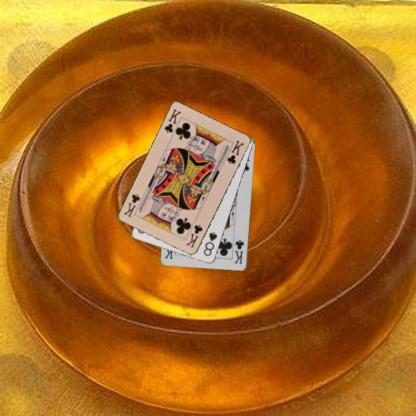8s: (201, 229, 218, 258)
Kc: (161, 106, 182, 134), (183, 222, 204, 249), (232, 237, 245, 265)
